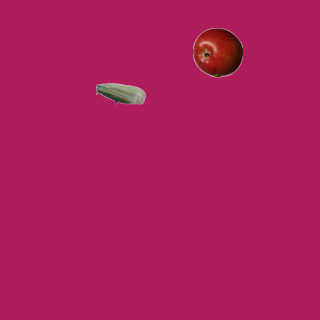Apple Braeburn: (192, 27, 242, 77)
Corn Husk: (95, 68, 145, 118)
